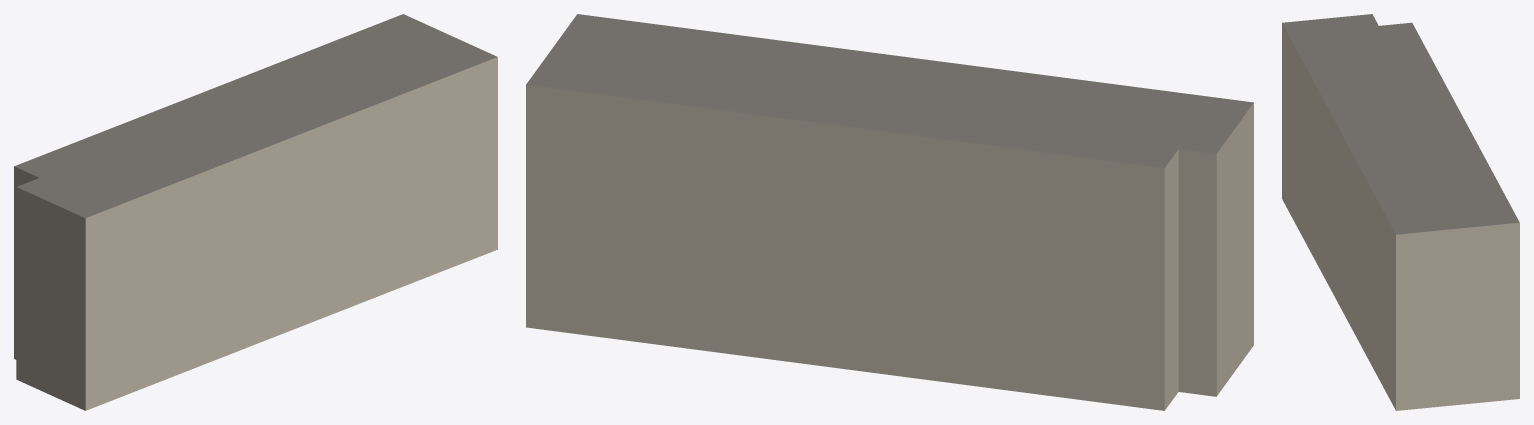
The picture shows the model from 3 angles, left to right: view 1: azimuth 30°, elevation 25°; view 2: azimuth 150°, elevation 25°; view 3: azimuth 270°, elevation 25°; orthographic projection. The views are drawn at different scales.
Visible parts, largest first — view 1: HP-w297827879; view 2: HP-w297827879; view 3: HP-w297827879.
Boxes of the visible parts, box(x1,y1,x2,y2) form: HP-w297827879: box(14, 14, 497, 410); HP-w297827879: box(526, 14, 1253, 410); HP-w297827879: box(1282, 14, 1519, 410).
Bounding box in the file's own units: 48.32 × 18 × 22.
